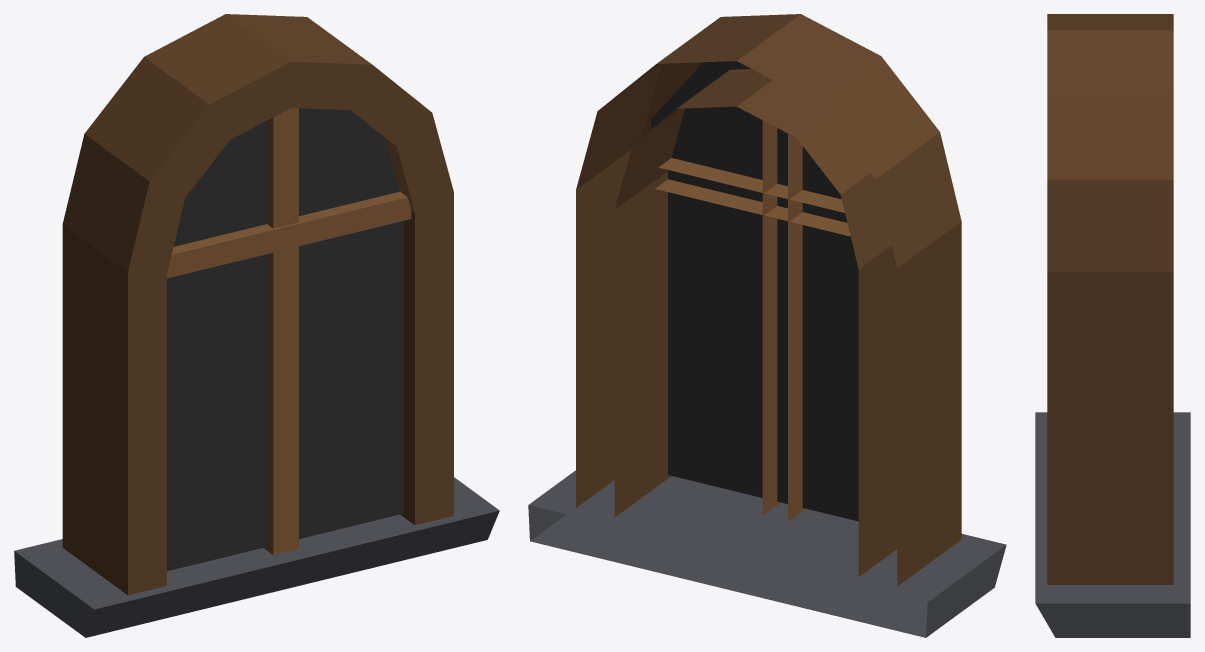
The model's file is window-3-9fc7d44f35.glb.
The picture shows the model from 3 angles, left to right: view 1: azimuth 30°, elevation 25°; view 2: azimuth 150°, elevation 25°; view 3: azimuth 270°, elevation 25°; orthographic projection. The views are drawn at different scales.
Parts seen in each view (by area): view 1: Window_3.obj; view 2: Window_3.obj; view 3: Window_3.obj.
Boxes of the visible parts, bbox=[...] form: Window_3.obj: bbox=[14, 14, 499, 637]; Window_3.obj: bbox=[528, 14, 1006, 637]; Window_3.obj: bbox=[1035, 14, 1190, 637].
Size of the model in its own units: 0.447 by 0.5585 by 0.1532.
